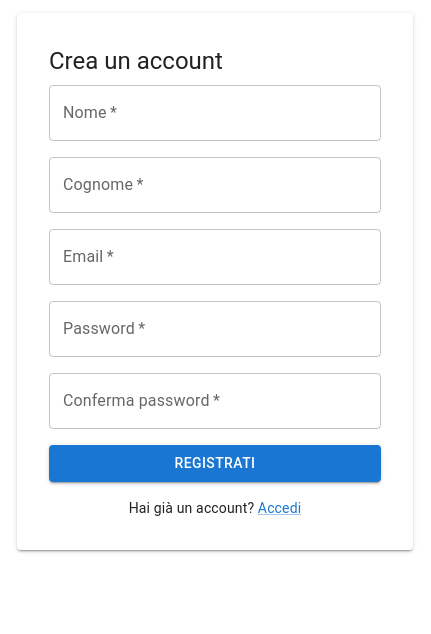
Test case: Registrazione › mostra l'errore del server (es. email già in uso)
Type "Mario" into the field labelled "Nome *". click: (215, 113)
box: top-left (49, 85), bottom-right (381, 141)
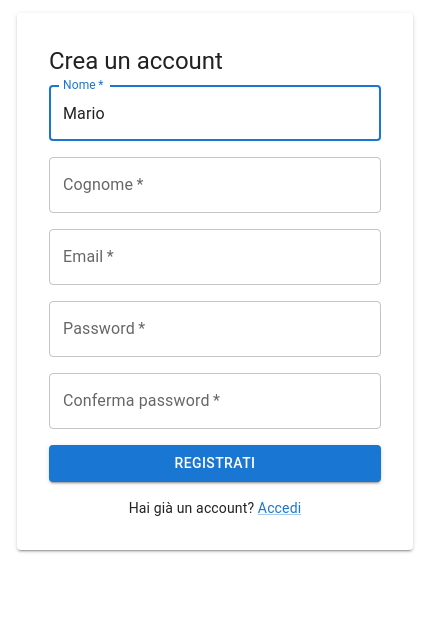
Type "Rossi" into the field labelled "Cognome *". click: (215, 185)
box: top-left (49, 157), bottom-right (381, 213)
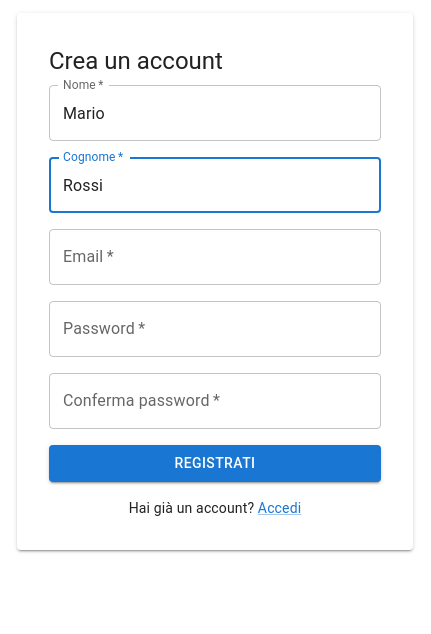
Type "mario@example.com" into the field labelled "Email *". click: (215, 257)
box: top-left (49, 229), bottom-right (381, 285)
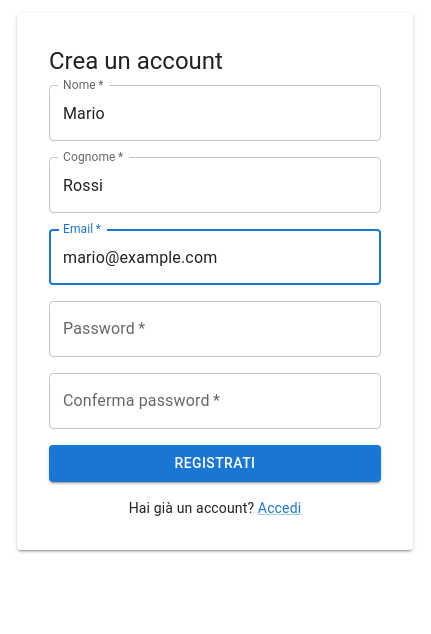
Type "secret1" into the password field labelled "Password *". click: (215, 329)
box: top-left (49, 301), bottom-right (381, 357)
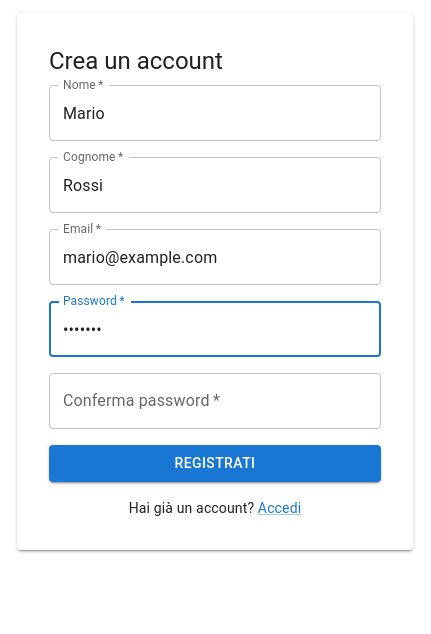
Type "secret1" into the password field labelled "Conferma password *". click: (215, 401)
box: top-left (49, 373), bottom-right (381, 429)
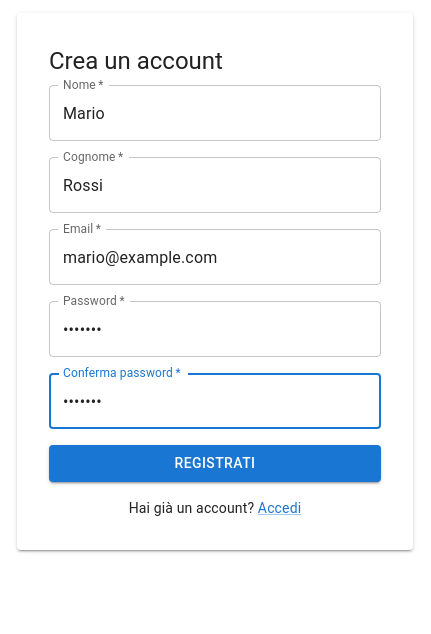
Click the button "Registrati". click: (215, 464)
box: top-left (49, 445), bottom-right (381, 482)
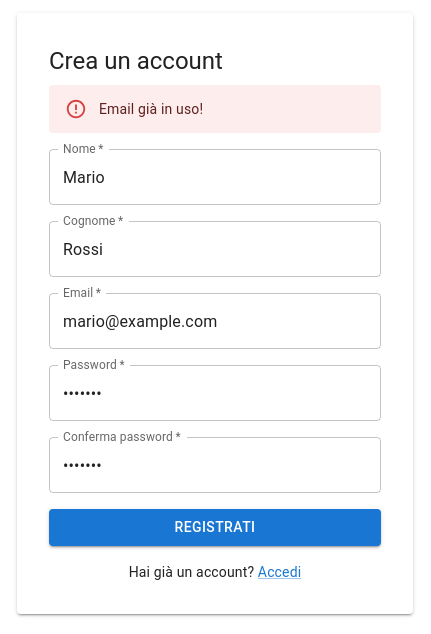
expect the message reads "Email già in uso!": met, box top-left (99, 101), bottom-right (203, 117)
